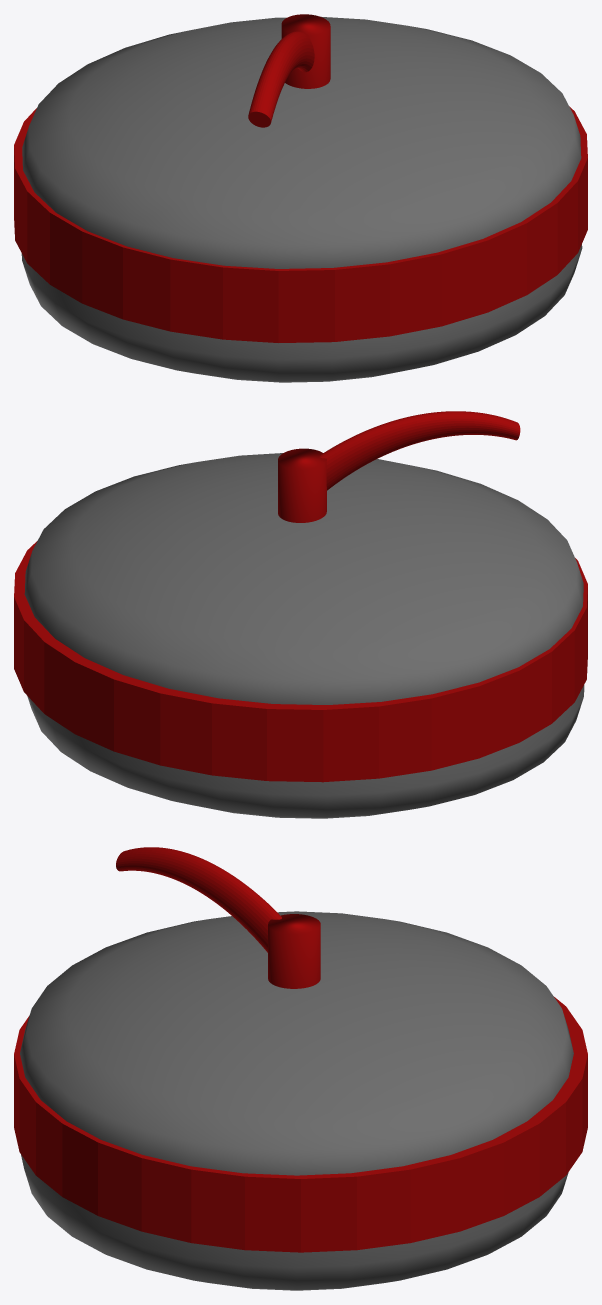
The model's file is red_rock.glb.
3 renders of one model, top to bottom at view 1: azimuth 30°, elevation 25°; view 2: azimuth 150°, elevation 25°; view 3: azimuth 270°, elevation 25°, orthographic.
Visible parts, largest first — view 1: Sphere, Cylinder.002, Cylinder, Cylinder.001; view 2: Sphere, Cylinder.002, Cylinder, Cylinder.001; view 3: Sphere, Cylinder.002, Cylinder, Cylinder.001.
Part boxes in pixels (left/top/right/bottom): Sphere: left=21, top=16, right=582, bottom=382; Cylinder.002: left=14, top=106, right=587, bottom=342; Cylinder: left=248, top=31, right=314, bottom=127; Cylinder.001: left=281, top=14, right=330, bottom=88; Sphere: left=24, top=453, right=584, bottom=818; Cylinder.002: left=14, top=541, right=587, bottom=782; Cylinder: left=319, top=411, right=520, bottom=490; Cylinder.001: left=278, top=448, right=326, bottom=522; Sphere: left=20, top=911, right=573, bottom=1290; Cylinder.002: left=14, top=997, right=587, bottom=1252; Cylinder: left=116, top=847, right=281, bottom=952; Cylinder.001: left=268, top=914, right=320, bottom=988.
Bounding box in the file's own units: 2.39 × 1.39 × 2.32.
